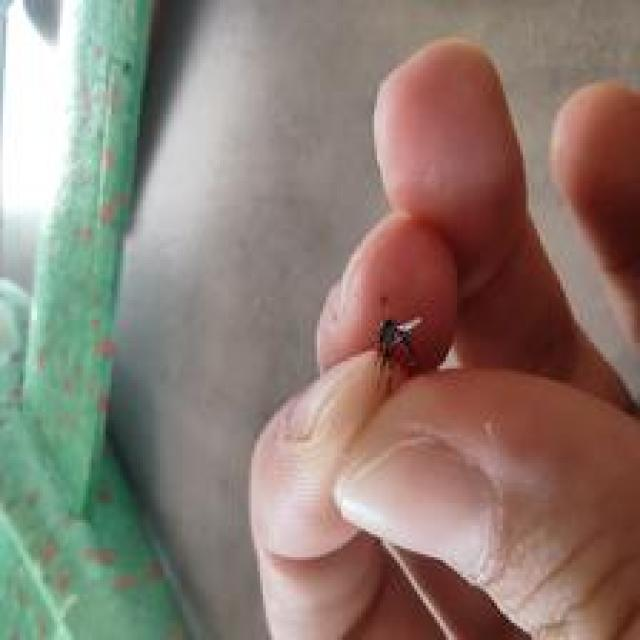Aedes albopictus: (373, 314, 424, 392)
